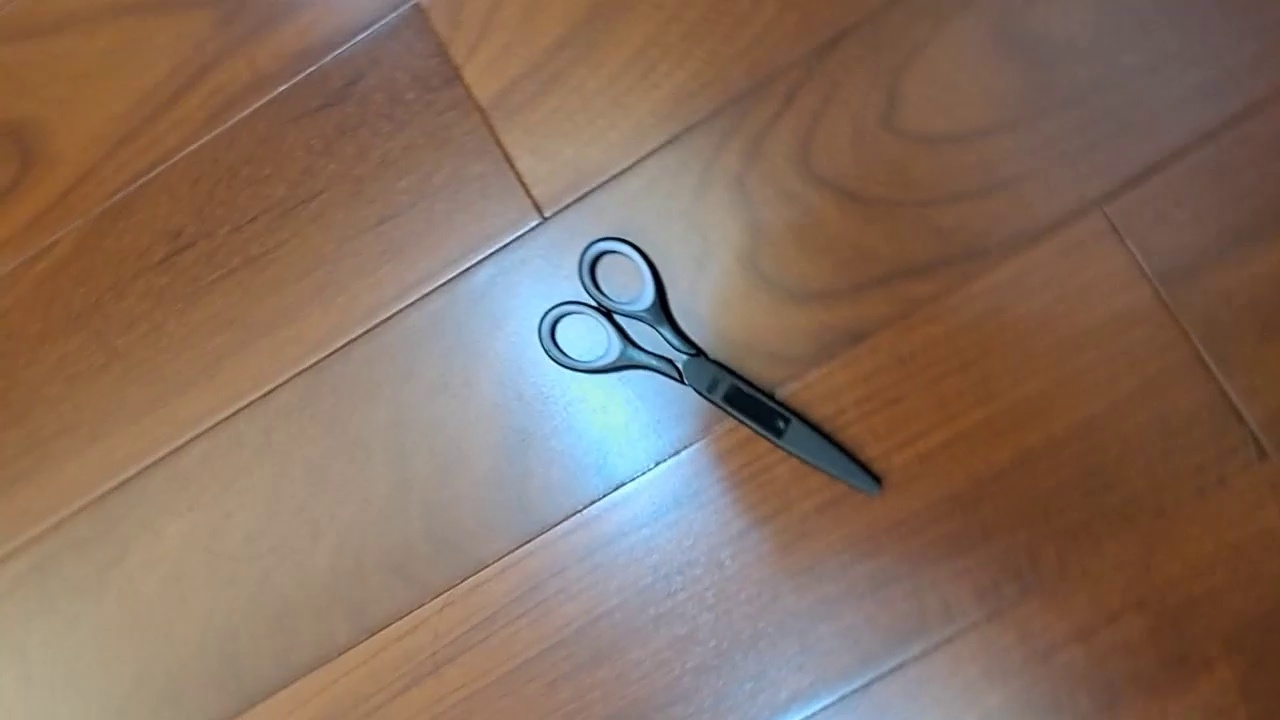scissors: (537, 236, 886, 501)
